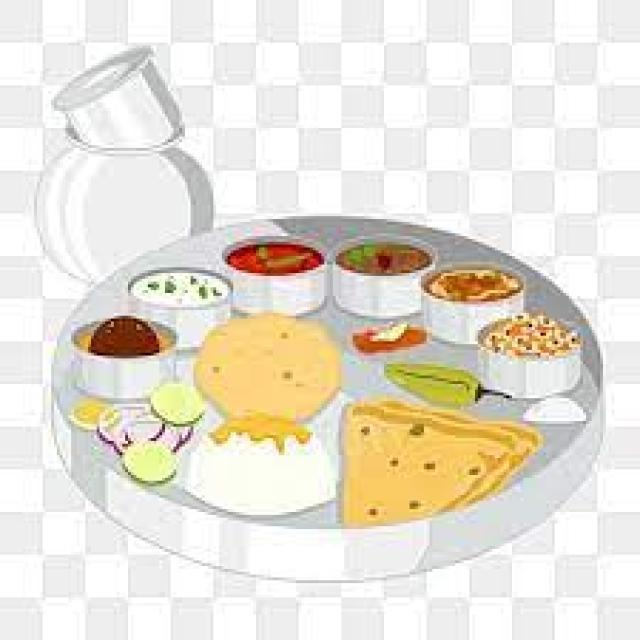dal: (336, 399, 543, 535), (194, 314, 346, 421)
raita: (52, 150, 200, 273)
rice: (50, 152, 205, 272), (184, 408, 335, 519), (130, 269, 229, 315)
sambar-rasam: (76, 316, 175, 367)
sweet: (334, 236, 435, 281)
veg-fry: (476, 307, 590, 382), (427, 261, 520, 307)
